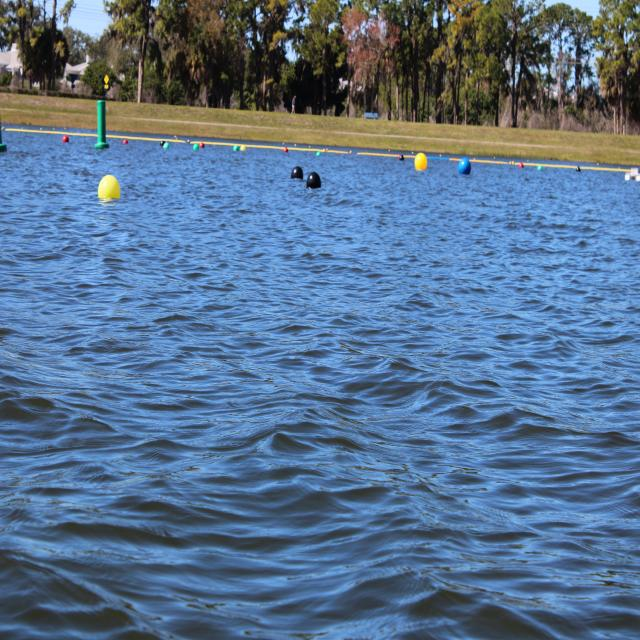black-buoy: (305, 174, 320, 192), (290, 167, 304, 180)
blue-buoy: (458, 158, 472, 177)
green-buoy: (0, 143, 8, 153), (234, 145, 241, 152), (192, 144, 198, 151)
green-column-buoy: (95, 99, 111, 149)
red-buoy: (63, 136, 70, 144), (518, 161, 523, 168)
yellow-buoy: (97, 178, 119, 204), (415, 151, 428, 171), (241, 145, 247, 152)
